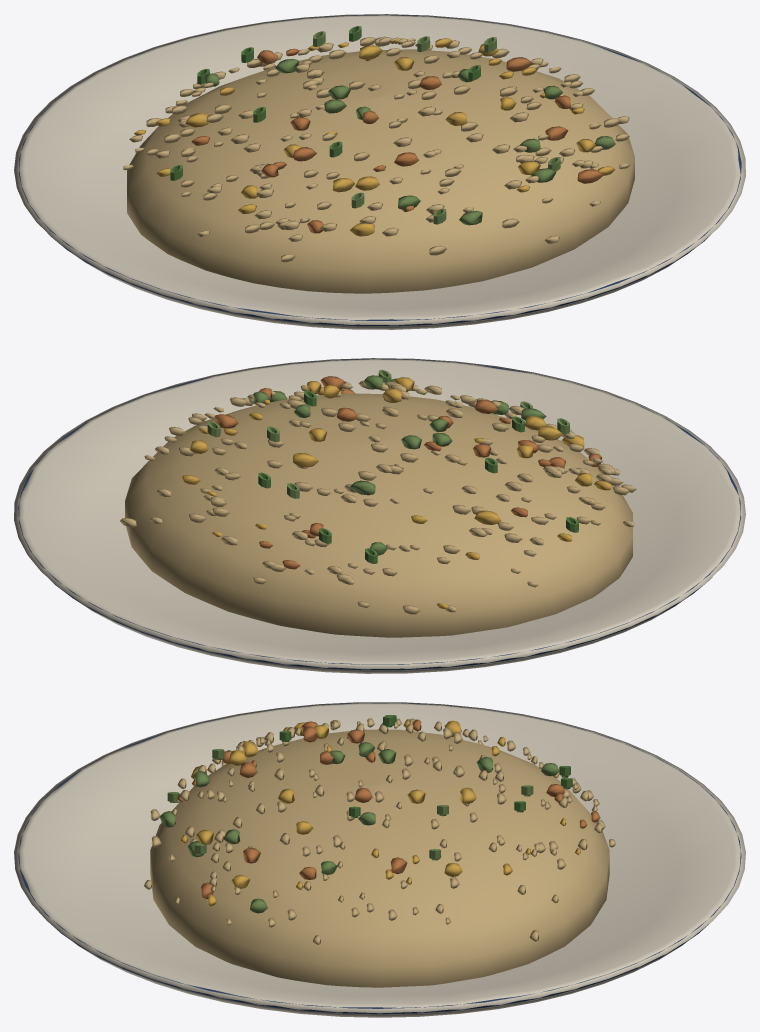
The model's file is rice.glb.
The picture shows the model from 3 angles, top to bottom: view 1: azimuth 30°, elevation 25°; view 2: azimuth 150°, elevation 25°; view 3: azimuth 270°, elevation 25°; orthographic projection.
Parts seen in each view (by area): view 1: FP218_rice; view 2: FP218_rice; view 3: FP218_rice.
Part boxes in pixels (x1,y1,x2,y2): FP218_rice: (14, 14, 745, 329); FP218_rice: (14, 358, 745, 673); FP218_rice: (14, 702, 745, 1017).
Bounding box in the file's own units: 0.3337 × 0.0938 × 0.3339.
